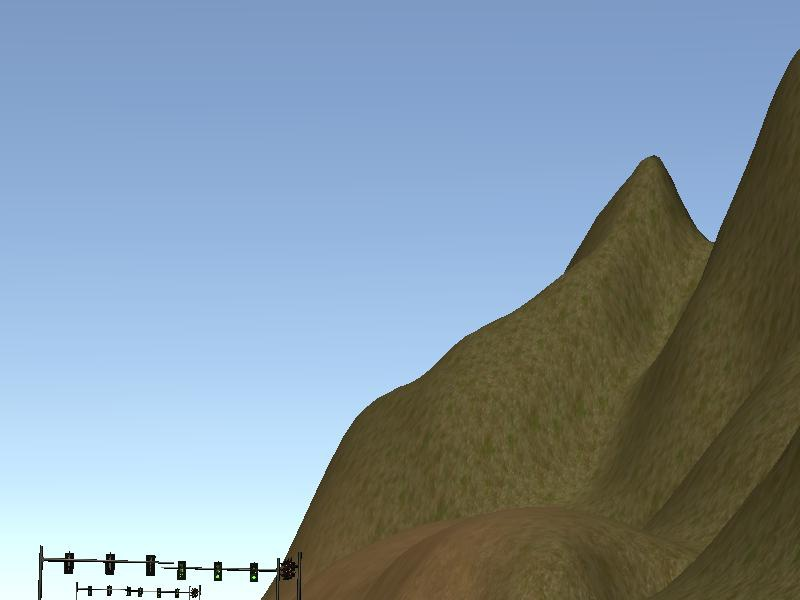Green: (250, 561, 258, 583), (177, 561, 185, 582), (214, 561, 221, 581)
